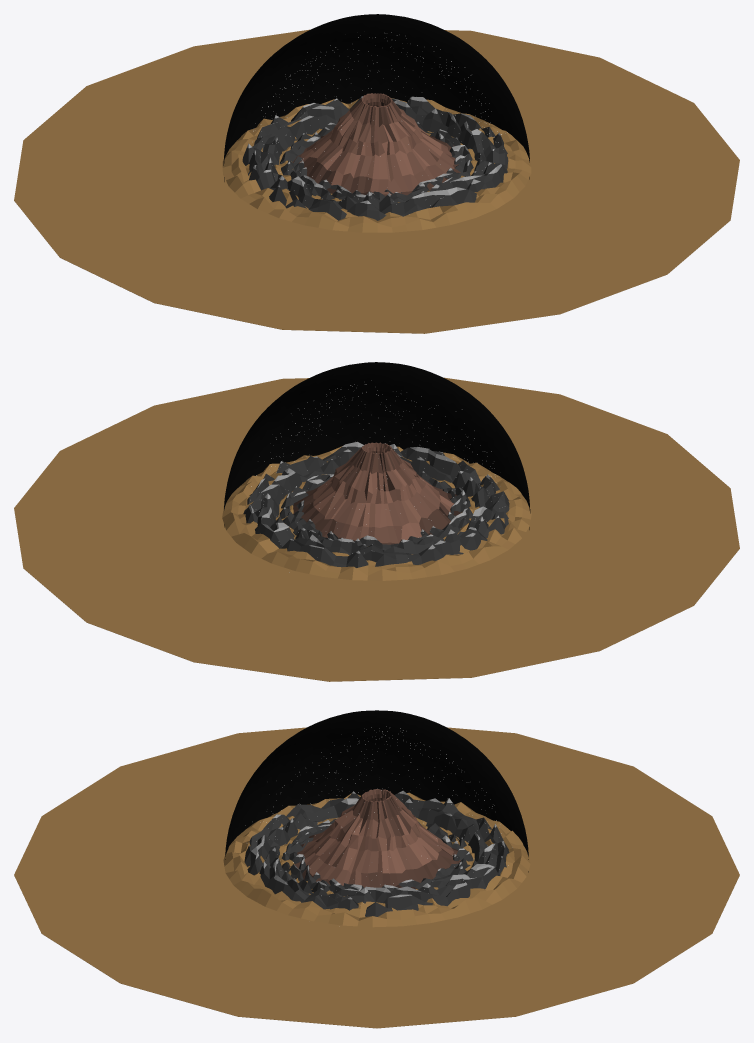
The model's file is environment.glb.
3 renders of one model, top to bottom at view 1: azimuth 30°, elevation 25°; view 2: azimuth 150°, elevation 25°; view 3: azimuth 270°, elevation 25°, orthographic.
Parts seen in each view (by area): view 1: Cylinder, Space, Bottom.001, Cone, OriginalRing.001, Bottom; view 2: Cylinder, Space, Bottom.001, Cone, OriginalRing.001, Bottom; view 3: Cylinder, Space, Bottom.001, Cone, OriginalRing.001, Bottom, OriginalRing.
Part boxes in pixels (x1,y1,x2,y2): Cylinder: [14, 29, 739, 333]; Space: [223, 14, 529, 214]; Bottom.001: [242, 96, 508, 220]; Cone: [292, 93, 460, 196]; OriginalRing.001: [222, 98, 531, 232]; Bottom: [279, 122, 473, 202]; Cylinder: [14, 377, 739, 681]; Space: [224, 362, 530, 572]; Bottom.001: [243, 441, 509, 567]; Cone: [293, 442, 460, 544]; OriginalRing.001: [222, 446, 531, 580]; Bottom: [279, 471, 473, 550]; Cylinder: [14, 727, 739, 1028]; Space: [225, 710, 528, 896]; Bottom.001: [244, 790, 509, 916]; Cone: [289, 789, 460, 889]; OriginalRing.001: [223, 792, 530, 927]; Bottom: [281, 818, 473, 896]; OriginalRing: [278, 817, 474, 896].
Bounding box in the file's own units: 9187 × 3867 × 9187.
